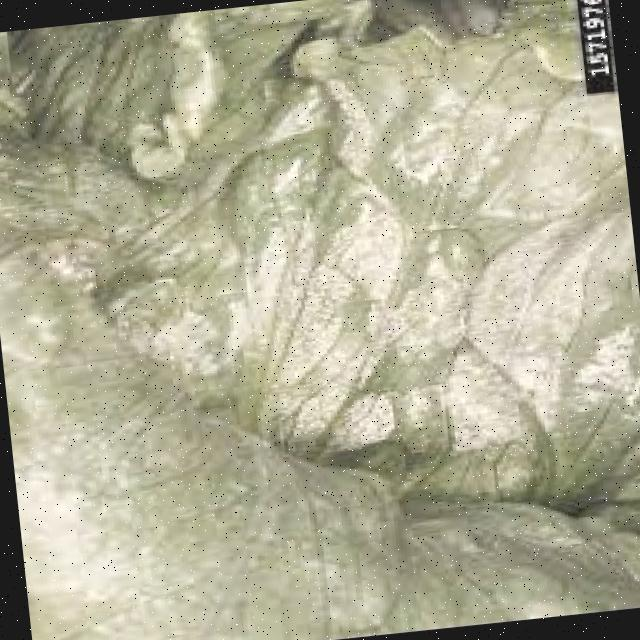Downy_mildew_on_lettuce: (232, 64, 604, 463)
